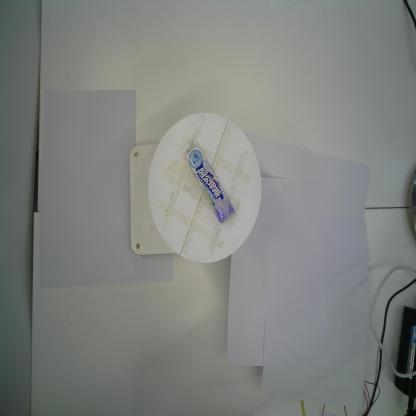Candy: (186, 146, 234, 224)
